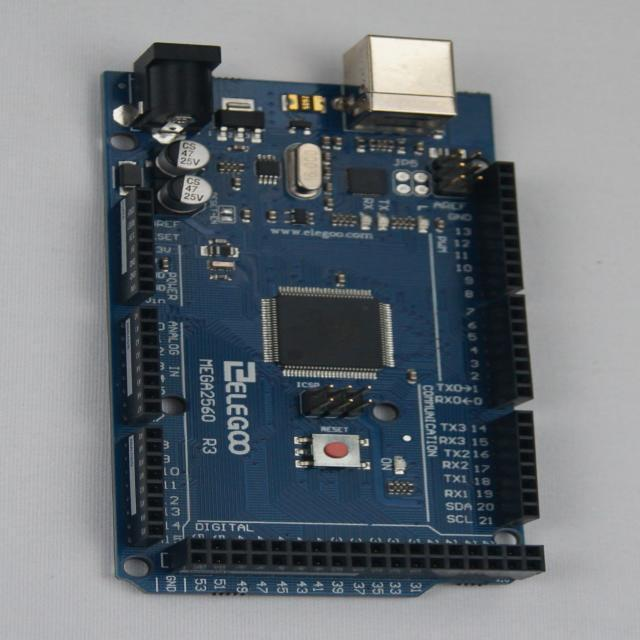Arduino Mega 2560 -Blue-: (103, 37, 545, 597)
